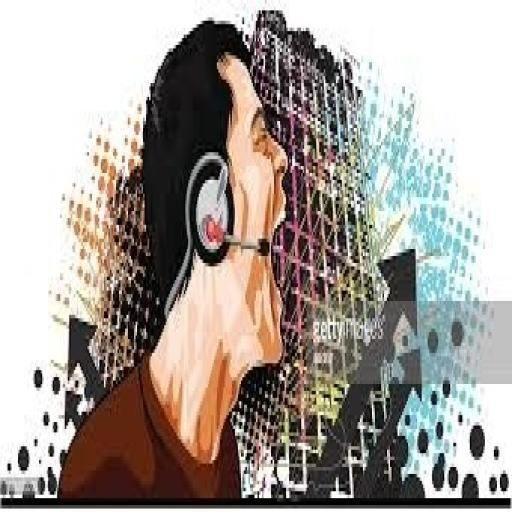listening_to_music: (56, 17, 290, 505)
